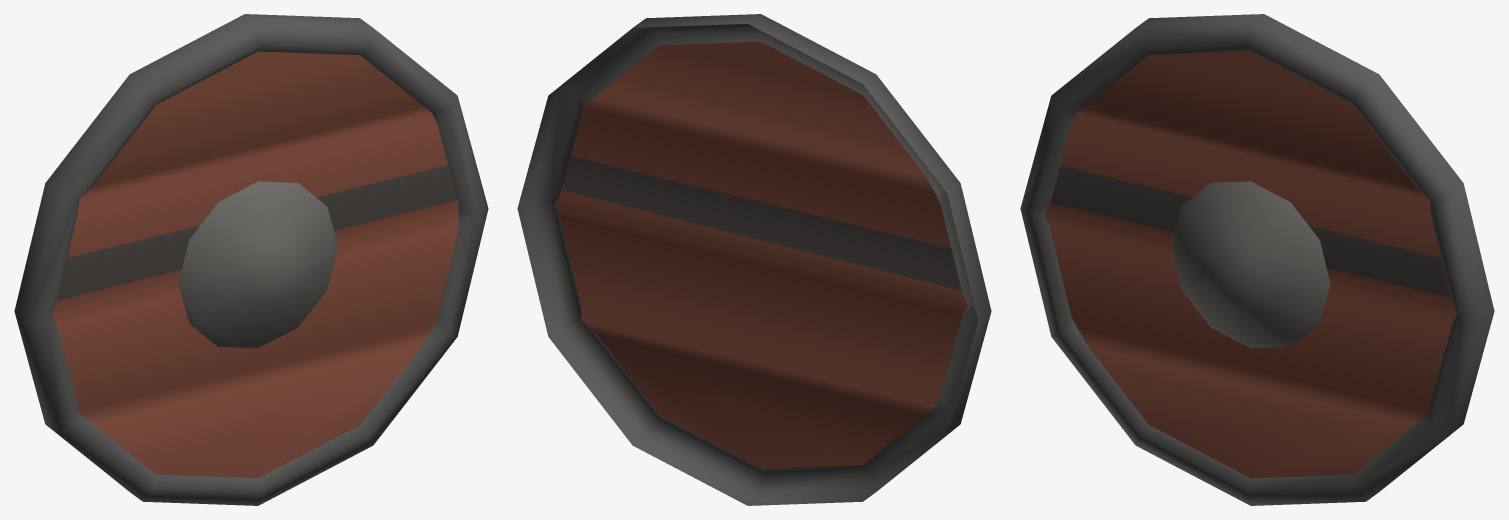
The model's file is rpgpp_lt_shield_wall_01b.glb.
3 renders of one model, left to right at view 1: azimuth 30°, elevation 25°; view 2: azimuth 150°, elevation 25°; view 3: azimuth 330°, elevation 25°, orthographic.
Visible parts, largest first — view 1: rpgpp_lt_shield_wall_01b; view 2: rpgpp_lt_shield_wall_01b; view 3: rpgpp_lt_shield_wall_01b.
Boxes of the visible parts, x1,y1,x2,y2 form: rpgpp_lt_shield_wall_01b: [14, 14, 488, 505]; rpgpp_lt_shield_wall_01b: [517, 14, 991, 505]; rpgpp_lt_shield_wall_01b: [1020, 14, 1494, 505].
Bounding box in the file's own units: 1 × 1 × 0.1226.
1 material, 1 textured.
